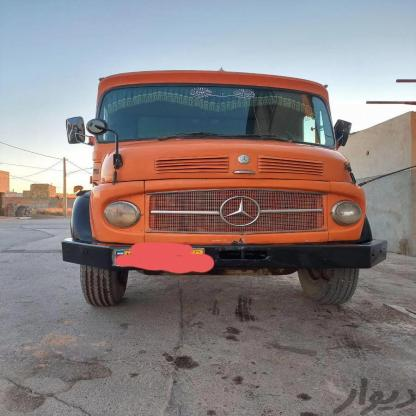Truck: (52, 70, 389, 312)
